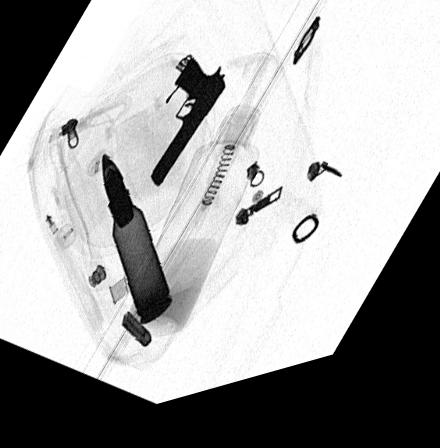Bullet: (99, 157, 173, 332)
Gun: (147, 67, 225, 196)
